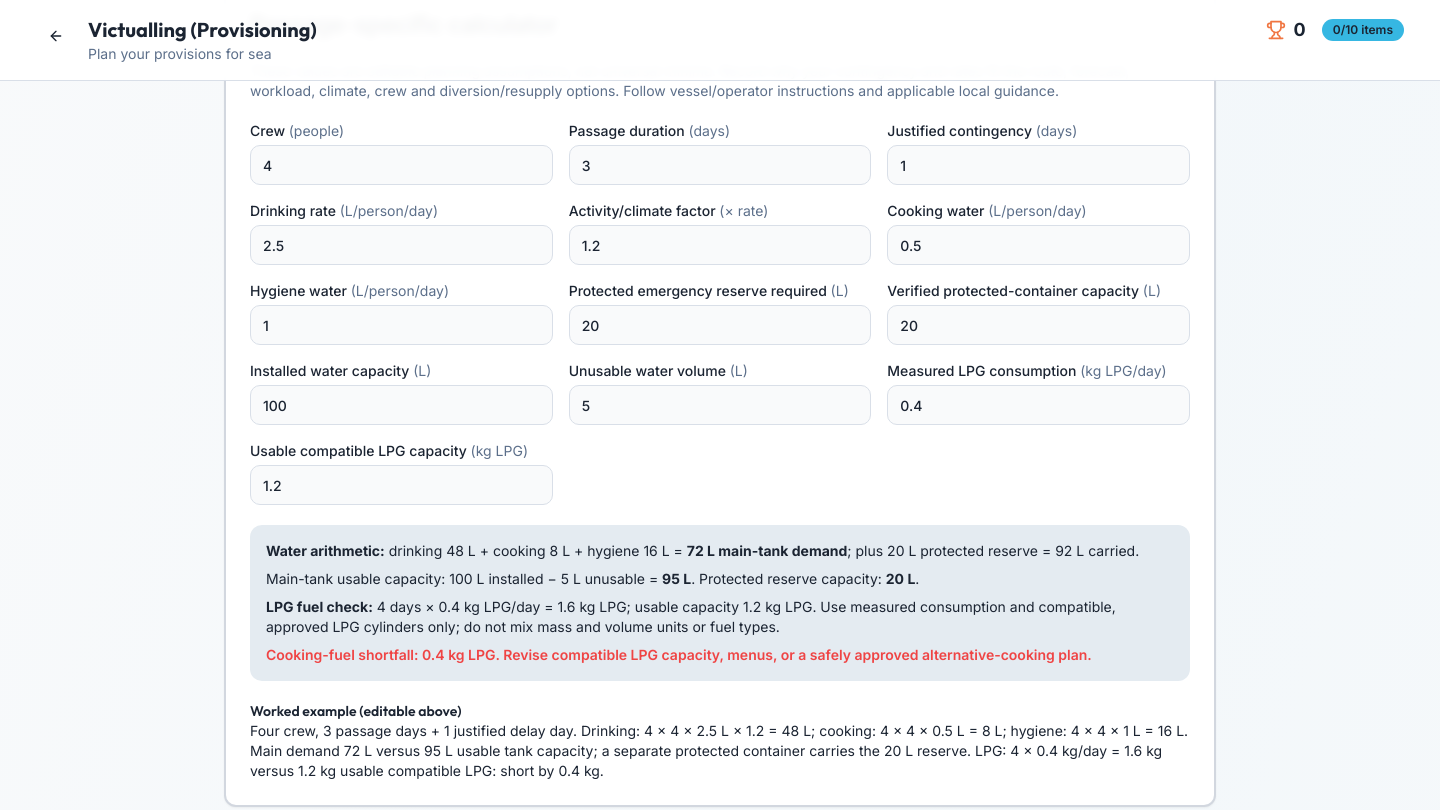
Test: VictuallingTheory durable checklist › exposes editable passage inputs and announces capacity warnings
This screenshot has width=1440, height=810.
(page scrolled)
expect the number field labelled "Crew (people)" is shown: met, box [250,145,553,185]
expect the text "Water arithmetic:" shows "92 L": met, box [266,541,1174,561]
Replace the text in the number field labelled "Installed water capacity (L)" with "50" at [401, 405], box [250,385,553,425]
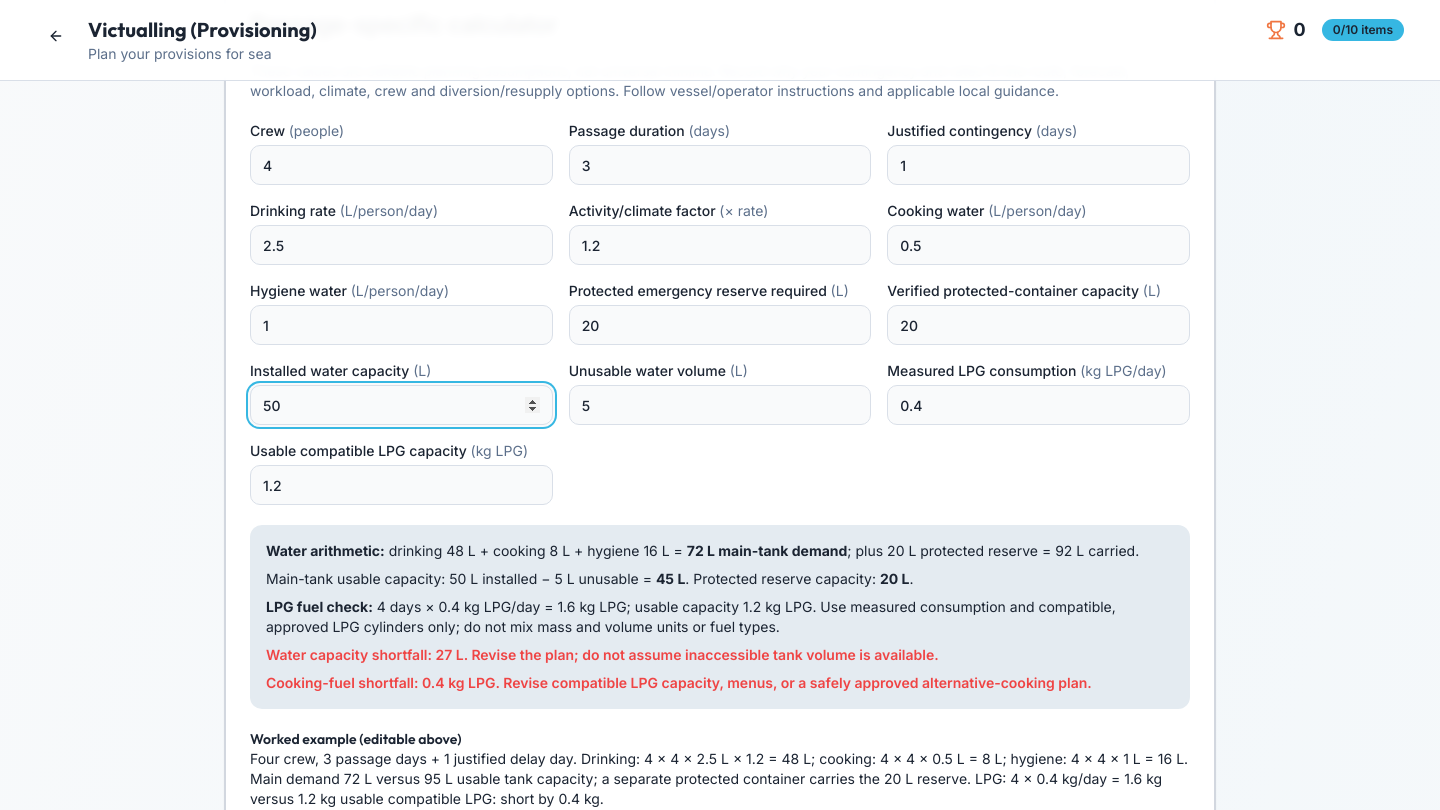
expect the text "Water capacity shortfall:" shows "27 L": met, box [266,646,939,663]
